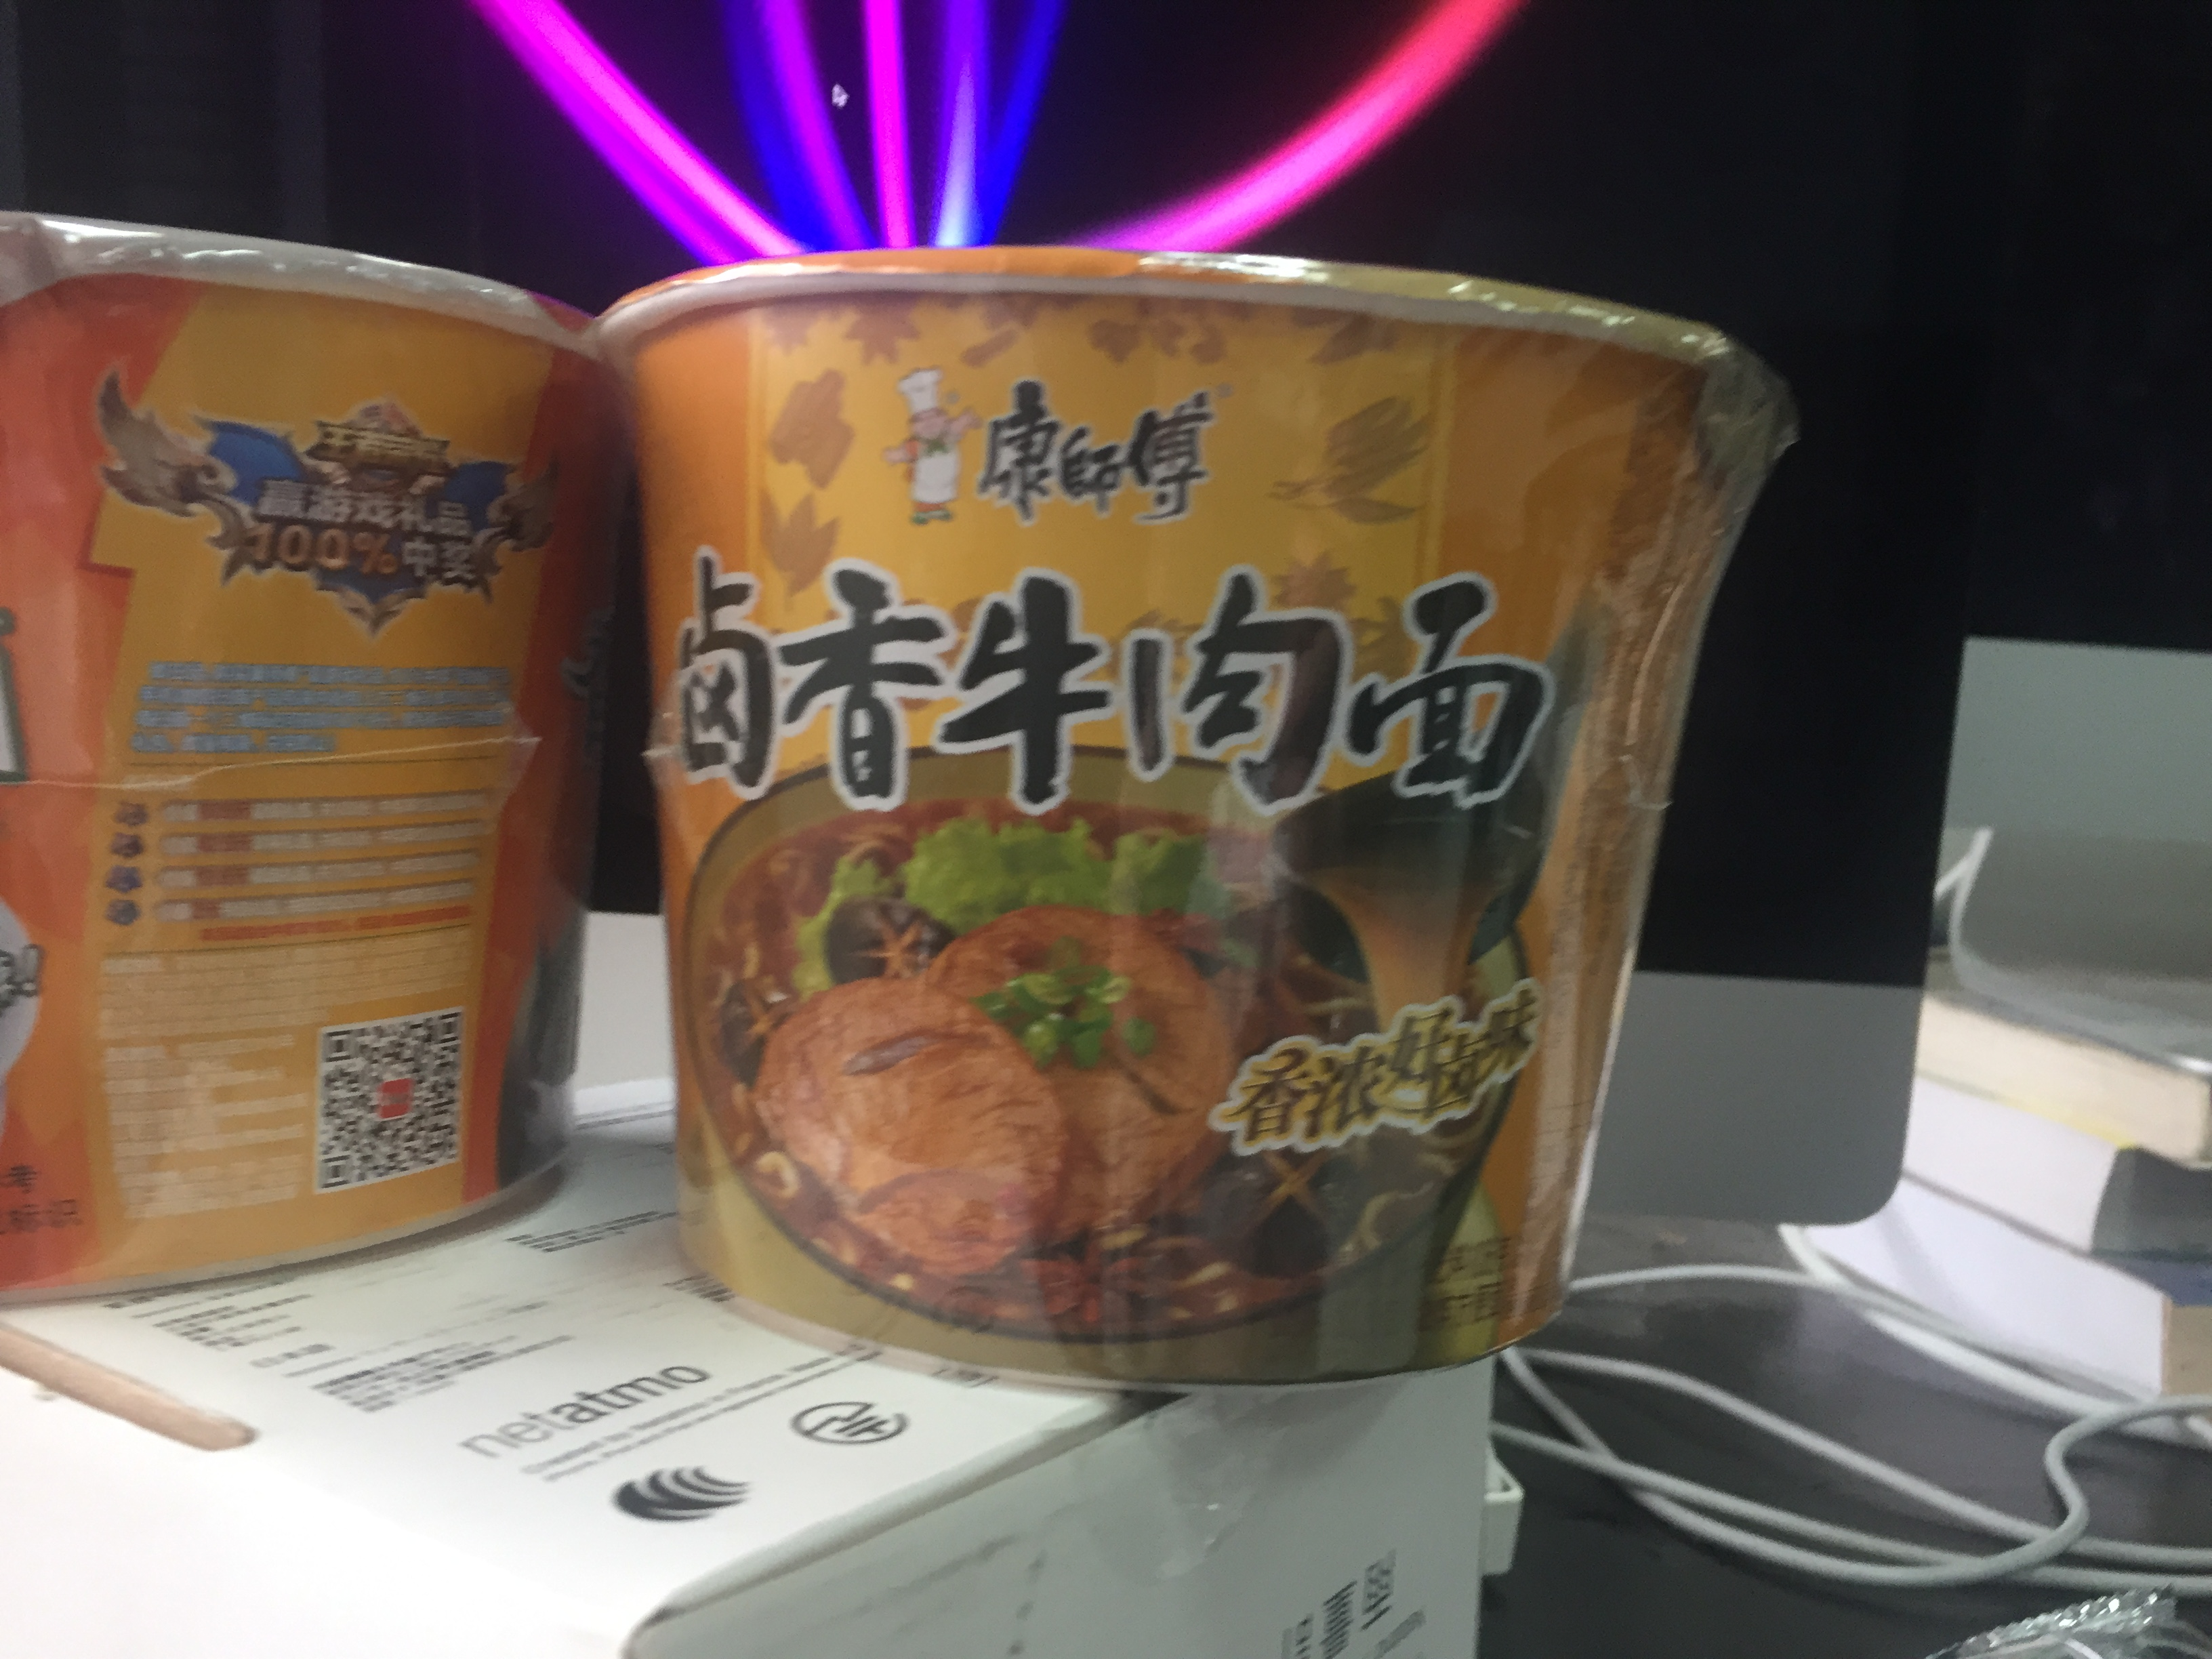luxiang: (589, 244, 1808, 1401)
